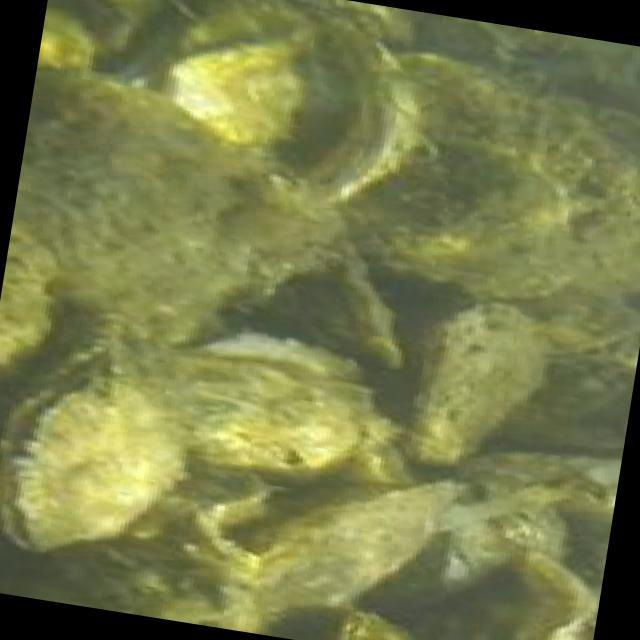Oyster-Closed: (0, 75, 291, 386), (0, 464, 266, 632), (404, 54, 640, 215), (341, 135, 570, 295), (154, 333, 390, 474), (247, 480, 457, 620), (405, 302, 547, 465), (302, 21, 421, 202), (242, 246, 400, 369), (175, 30, 343, 136), (398, 553, 593, 640), (490, 351, 639, 450), (440, 454, 608, 534), (499, 283, 640, 365), (442, 508, 570, 595), (35, 14, 97, 79), (339, 441, 411, 485), (328, 609, 413, 640), (84, 0, 154, 27)
Oyster-Open: (0, 364, 181, 551)
